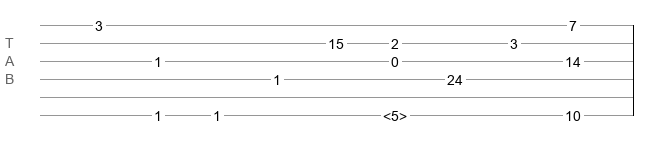0: (391, 54, 399, 64)
1: (154, 108, 162, 118), (154, 54, 162, 64), (213, 108, 221, 118), (273, 72, 281, 82)
10: (565, 108, 581, 118)
14: (565, 54, 581, 64)
15: (328, 36, 344, 46)
2: (391, 36, 399, 46)
24: (447, 72, 463, 82)
3: (95, 18, 103, 28), (510, 36, 518, 46)
7: (569, 18, 577, 28)
harmonic: (383, 108, 407, 118)
